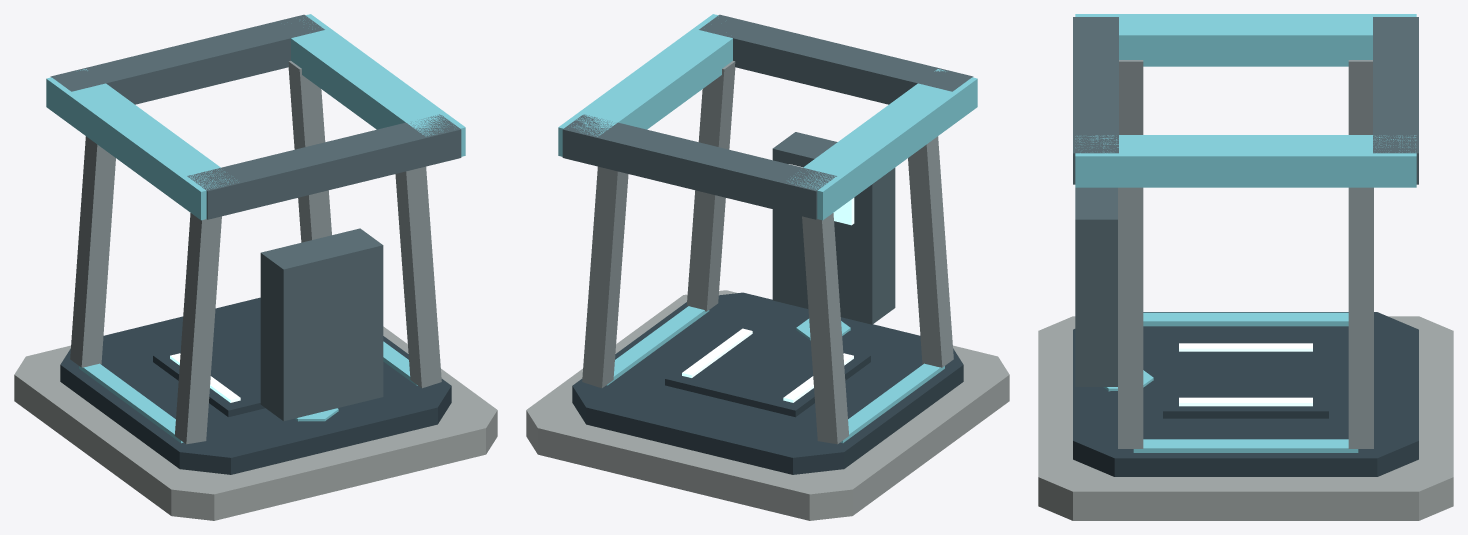
The model's file is respawn-low.glb.
3 views of the same model, side by side, from view 1: azimuth 30°, elevation 25°; view 2: azimuth 150°, elevation 25°; view 3: azimuth 270°, elevation 25° (orthographic). The views are drawn at different scales.
Visible parts, largest first — view 1: asset_respawn__FP_Baked, asset_respawn__FP_Team; view 2: asset_respawn__FP_Baked, asset_respawn__FP_Team, asset_respawn__FP_Signal; view 3: asset_respawn__FP_Baked, asset_respawn__FP_Team, asset_respawn__FP_Signal.
Part boxes in pixels (x1,y1,x2,y2): asset_respawn__FP_Baked: [14, 14, 497, 520]; asset_respawn__FP_Team: [46, 14, 465, 443]; asset_respawn__FP_Baked: [526, 14, 1009, 520]; asset_respawn__FP_Team: [558, 14, 977, 443]; asset_respawn__FP_Signal: [682, 164, 854, 402]; asset_respawn__FP_Baked: [1038, 17, 1453, 520]; asset_respawn__FP_Team: [1075, 14, 1416, 452]; asset_respawn__FP_Signal: [1179, 343, 1312, 406].
Bounding box in the file's own units: 1.8 × 1.67 × 1.8.
